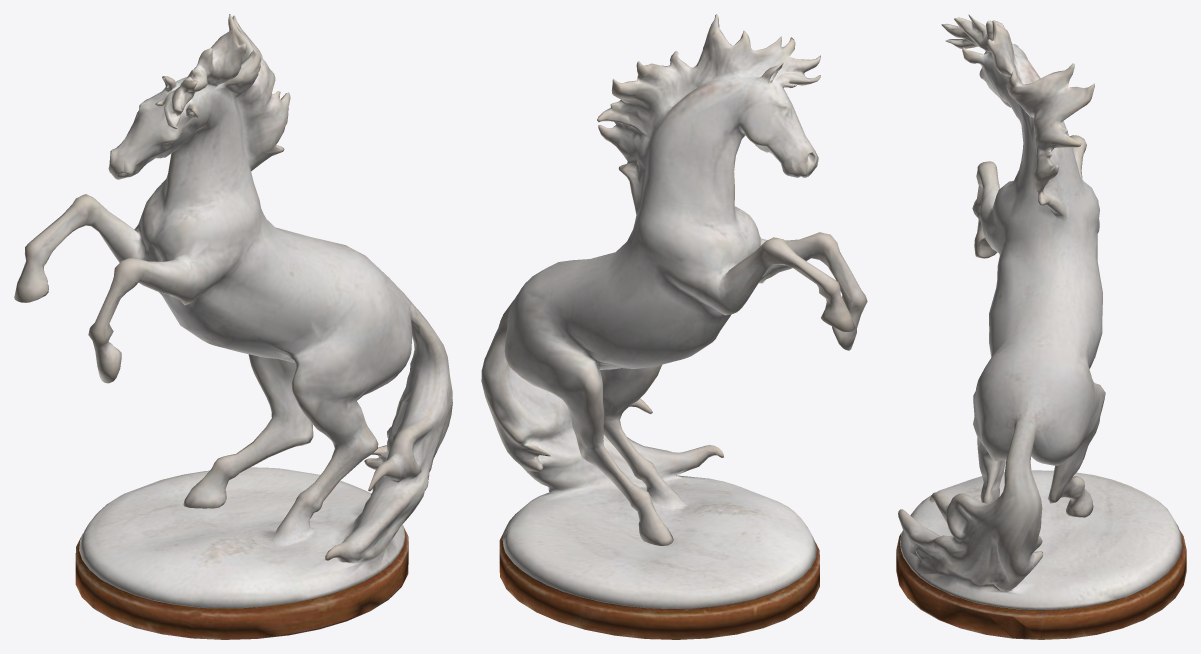
The model's file is horse_statue_01.glb.
3 views of the same model, side by side, from view 1: azimuth 30°, elevation 25°; view 2: azimuth 150°, elevation 25°; view 3: azimuth 270°, elevation 25° (orthographic). The views are drawn at different scales.
Parts seen in each view (by area): view 1: horse_statue_01; view 2: horse_statue_01; view 3: horse_statue_01.
Part boxes in pixels (x1=…): horse_statue_01: x1=14, y1=14, x2=452, y2=639; horse_statue_01: x1=481, y1=14, x2=867, y2=639; horse_statue_01: x1=896, y1=14, x2=1186, y2=639.
Size of the model in its own units: 0.1638 by 0.22 by 0.1078.
Materials: 2 (2 with a texture image).
